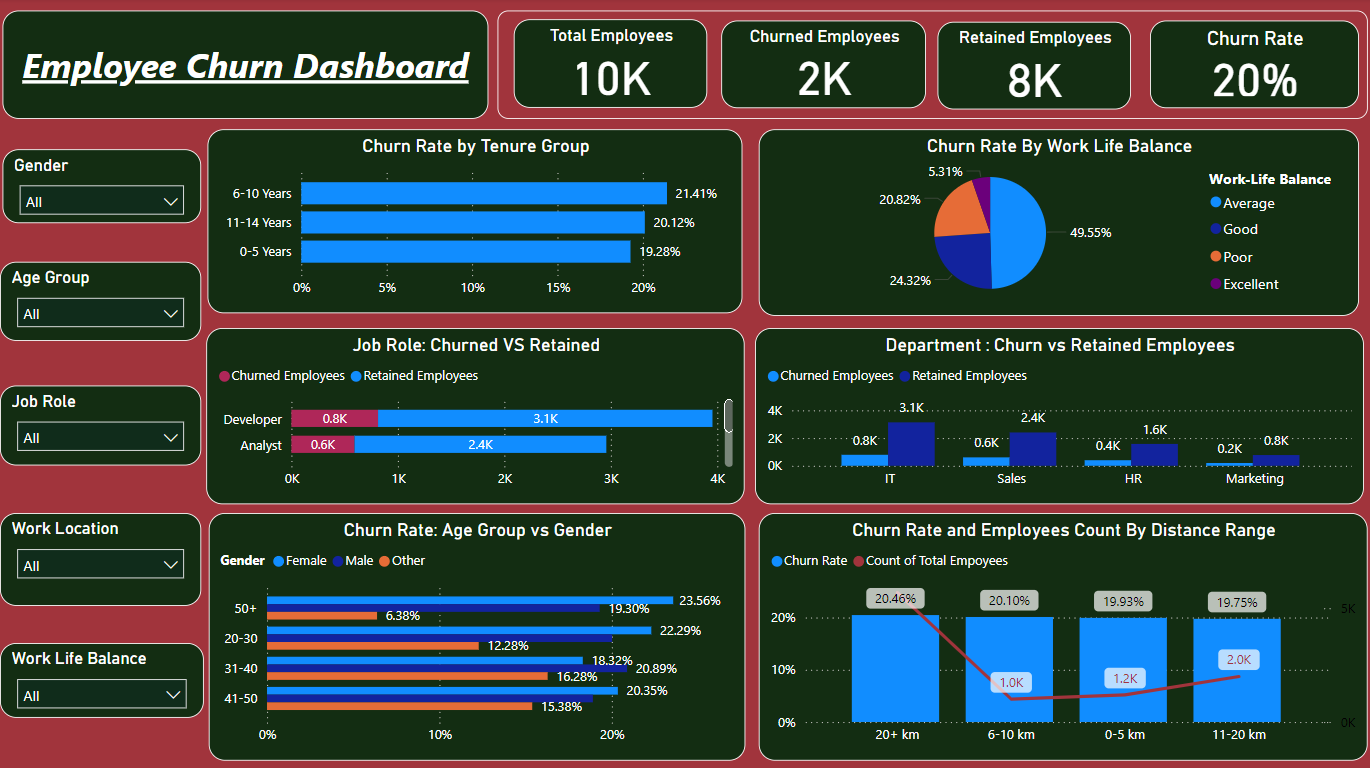

The page's visual inventory and layout, read from the dashboard file:
{"tool":"powerbi","page":{"name":"Page 1","canvas":[1280,720],"ordinal":0},"visuals":[{"type":"lineStackedColumnComboChart","title":"Churn Rate and Employees Count By Distance Range","fields":{"Category":["Employee_Churn.Distance Range"],"Y":["Employee_Churn.Churn Rate"],"Y2":["CountNonNull(Employee_Churn.Total Empoyees)"]},"box":[705.8,479.1,566.3,230.2],"z":0},{"type":"shape","box":[462.8,11.6,809.3,101.2],"z":2000},{"type":"textbox","box":[2.3,11.6,452.3,101.2],"z":3000},{"type":"slicer","title":"Work Location","fields":{"Values":["Employee_Churn.Work Location"]},"box":[0,479.1,187.2,86],"z":4000},{"type":"slicer","title":"Gender","fields":{"Values":["Employee_Churn.Gender"]},"box":[2.3,140.7,184.9,68.6],"z":5000},{"type":"slicer","title":"Age Group","fields":{"Values":["Employee_Churn.Age Group"]},"box":[0,245.3,187.2,73.3],"z":6000},{"type":"slicer","title":"Work Life Balance","fields":{"Values":["Employee_Churn.Work-Life Balance"]},"box":[0,600,189.5,69.8],"z":8000},{"type":"card","title":"Total Employees","fields":{"Values":["CountNonNull(Employee_Churn.Total Employees)"]},"box":[477.9,19.8,180.2,82.6],"z":9000},{"type":"card","title":"Churned Employees","fields":{"Values":["Employee_Churn.Churned Employees"]},"box":[670.9,20.9,190.7,81.4],"z":10000},{"type":"card","title":"Retained Employees","fields":{"Values":["Employee_Churn.Retained Employees"]},"box":[872.1,22.1,180.2,81.4],"z":11000},{"type":"card","title":"Churn Rate","fields":{"Values":["Employee_Churn.Churn Rate"]},"box":[1069.8,20.9,194.2,81.4],"z":12000},{"type":"clusteredBarChart","title":"Churn Rate: Age Group vs Gender","fields":{"Category":["Employee_Churn.Age Group"],"Y":["Employee_Churn.Churn Rate"],"Series":["Employee_Churn.Gender"]},"box":[194.2,479.1,498.8,230.2],"z":13000},{"type":"pieChart","title":"Churn Rate By Work Life Balance","fields":{"Category":["Employee_Churn.Work-Life Balance"],"Y":["Employee_Churn.Churned Employees"]},"box":[705.8,122.1,558.1,173.3],"z":14000},{"type":"barChart","fields":{"Category":["Employee_Churn.Tenure Group"],"Y":["Employee_Churn.Churn Rate"]},"box":[193,122.1,497.7,170.9],"z":15000},{"type":"barChart","title":"Job Role: Churned VS Retained","fields":{"Y":["Employee_Churn.Churned Employees","Employee_Churn.Retained Employees"],"Category":["Employee_Churn.Job Role"]},"box":[191.9,307,501.2,164],"z":16000},{"type":"clusteredColumnChart","title":"Department : Churn vs Retained Employees","fields":{"Category":["Employee_Churn.Department"],"Y":["Employee_Churn.Churned Employees","Employee_Churn.Retained Employees"]},"box":[702.3,307,566.3,164],"z":17000},{"type":"slicer","title":"Job Role","fields":{"Values":["Employee_Churn.Job Role"]},"box":[0,360.5,187.2,74.4],"z":18000}]}

Visuals, with their boxes in screenshot pixels (x1, y1, x2, y2), scaled from the page's 1280x720 canvas onto the 1370x768 screenshot:
"Churn Rate and Employees Count By Distance Range" lineStackedColumnComboChart: (755, 511, 1362, 757)
shape: (495, 12, 1362, 120)
textbox: (2, 12, 487, 120)
"Work Location" slicer: (0, 511, 200, 603)
"Gender" slicer: (2, 150, 200, 223)
"Age Group" slicer: (0, 262, 200, 340)
"Work Life Balance" slicer: (0, 640, 203, 714)
"Total Employees" card: (512, 21, 704, 109)
"Churned Employees" card: (718, 22, 922, 109)
"Retained Employees" card: (933, 24, 1126, 110)
"Churn Rate" card: (1145, 22, 1353, 109)
"Churn Rate: Age Group vs Gender" clusteredBarChart: (208, 511, 742, 757)
"Churn Rate By Work Life Balance" pieChart: (755, 130, 1353, 315)
barChart - Employee_Churn.Tenure Group x Employee_Churn.Churn Rate: (207, 130, 739, 313)
"Job Role: Churned VS Retained" barChart: (205, 327, 742, 502)
"Department : Churn vs Retained Employees" clusteredColumnChart: (752, 327, 1358, 502)
"Job Role" slicer: (0, 385, 200, 464)
